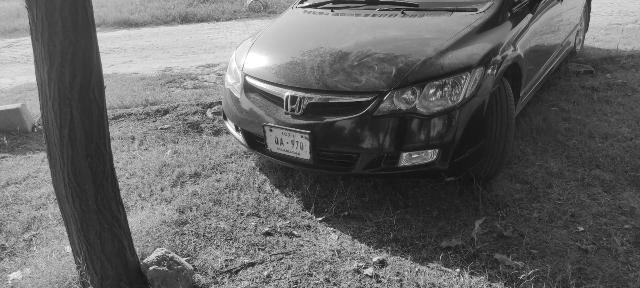Number: (272, 135, 306, 152)
